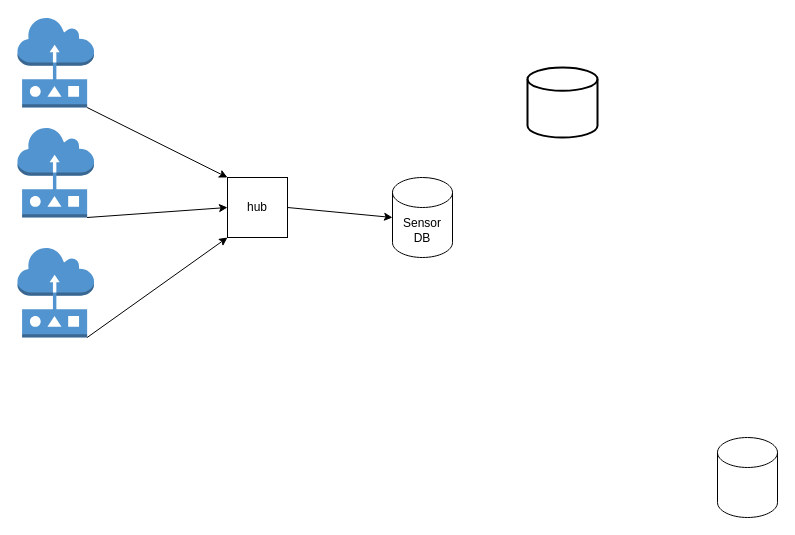
Image size: 795x535. Some labels were removed from this diagram. The shapes that lost their labels are listed below. From the top down, each one's box as (x1, y1, x2, y2) in pixels, then its label:
(526, 66, 598, 138): Referenz DB
(716, 436, 778, 518): DB
